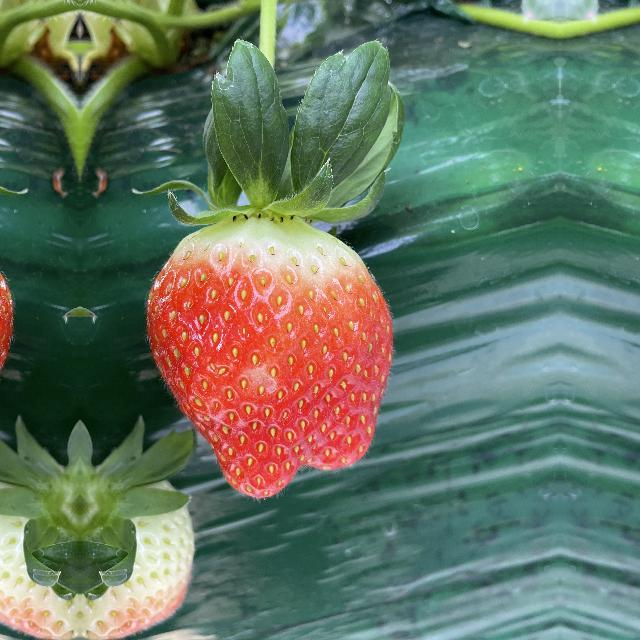Health_100: (130, 220, 394, 498)
